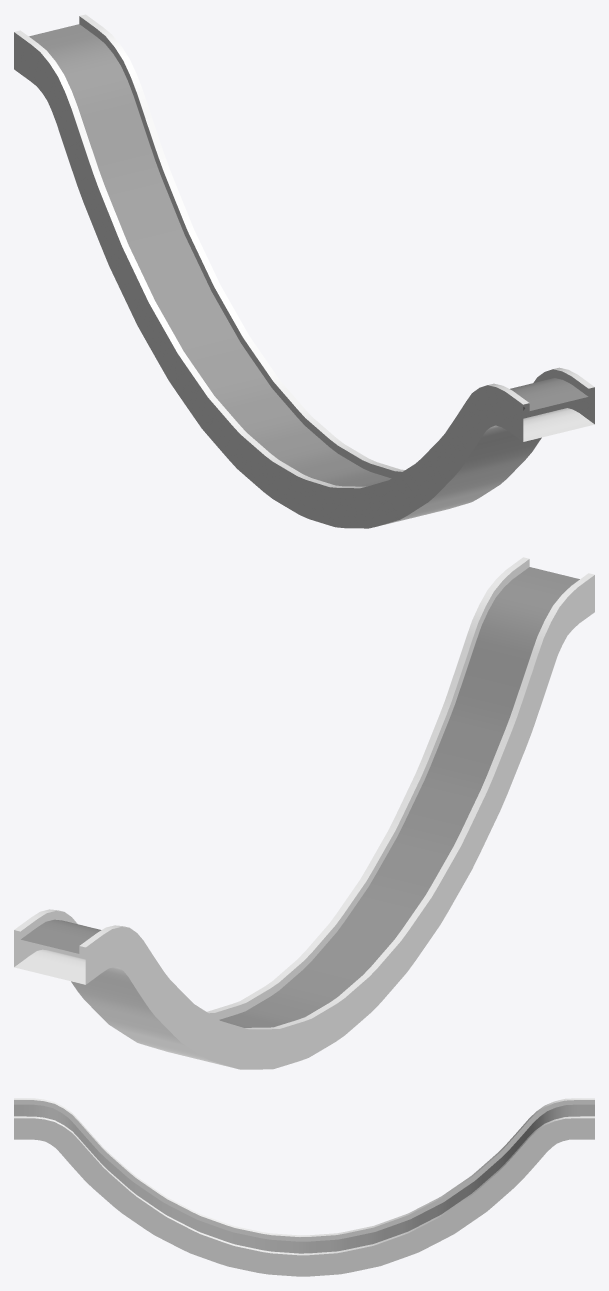
Rendered from road_vpadina.fbx.
3 views of the same model, one above another, from view 1: azimuth 30°, elevation 25°; view 2: azimuth 150°, elevation 25°; view 3: azimuth 270°, elevation 25° (orthographic). The views are drawn at different scales.
Visible parts, largest first — view 1: Cube; view 2: Cube; view 3: Cube.
Part boxes in pixels (x1,y1,x2,y2): Cube: (14,14,594,528); Cube: (14,557,594,1069); Cube: (14,1098,594,1276).
Bounding box in the file's own units: 244 × 902 × 2997.
